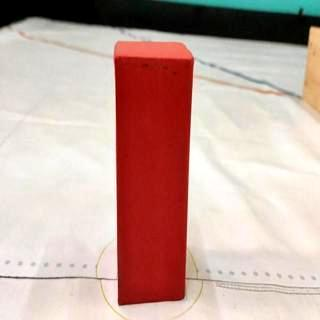redbox: (114, 39, 194, 306)
